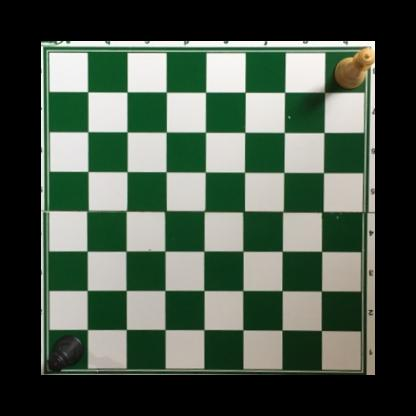black-queen: (46, 333, 86, 375)
white-queen: (333, 47, 375, 90)
